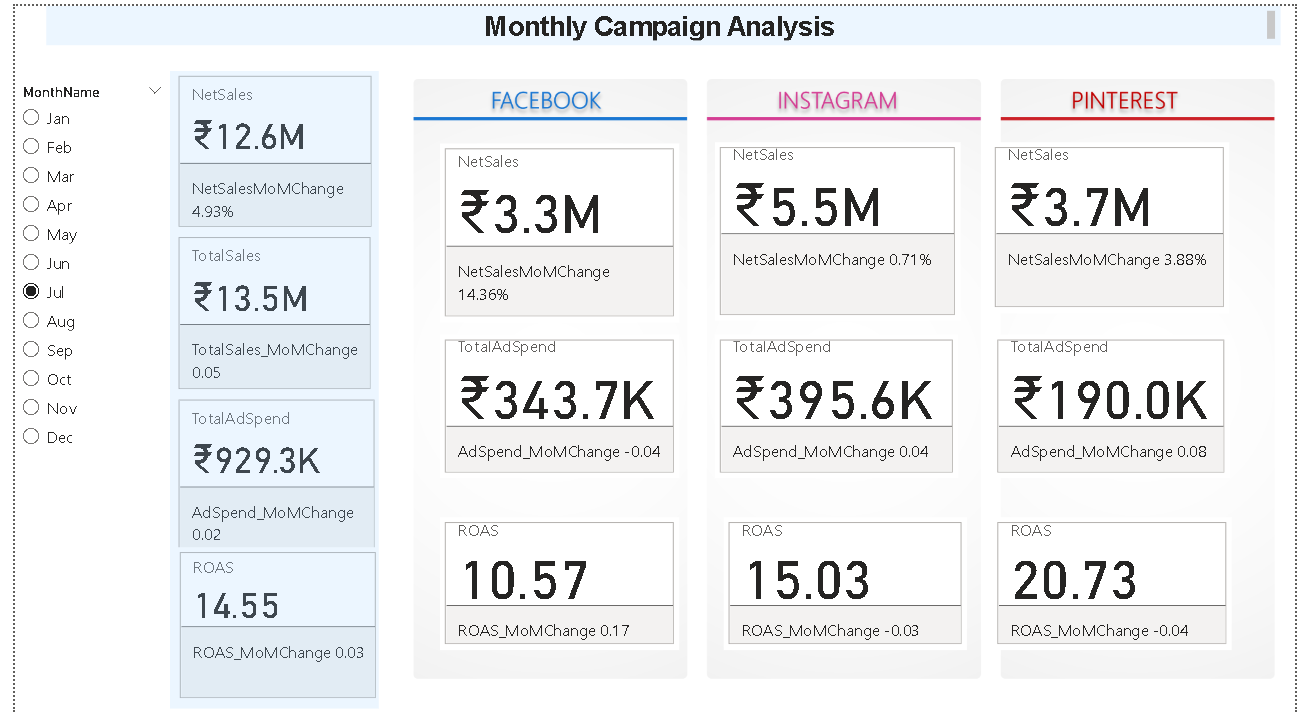

Layout of this report page (visuals, bound fields, positions):
{"tool":"powerbi","page":{"name":"Monthly Campaign Analysis","canvas":[1280,720],"ordinal":1},"visuals":[{"type":"cardVisual","fields":{"Data":["Measures (2).TotalSales"]},"box":[158.2,226.6,202.5,162],"z":0},{"type":"cardVisual","fields":{"Data":["Measures (2).TotalAdSpend"]},"box":[158.2,388.6,206.3,167.1],"z":1000},{"type":"cardVisual","fields":{"Data":["Measures (2).NetSales"]},"box":[158.7,64.9,203.4,161.6],"z":2000},{"type":"image","box":[394,39.8,871.8,662.8],"z":3000},{"type":"cardVisual","fields":{"Data":["Measures (2).TotalAdSpend"]},"box":[425.3,329.1,239.2,143],"z":4000},{"type":"cardVisual","fields":{"Data":["Measures (2).TotalAdSpend"]},"box":[700,329.1,243,143],"z":5000},{"type":"cardVisual","fields":{"Data":["Measures (2).TotalAdSpend"]},"box":[977.2,329.1,238,143],"z":6000},{"type":"cardVisual","fields":{"Data":["A_Measures.ROAS"]},"box":[159.5,541.8,206.3,157],"z":7000},{"type":"cardVisual","fields":{"Data":["Measures (2).NetSales"]},"box":[974.7,136.7,239.2,170.9],"z":8000},{"type":"cardVisual","fields":{"Data":["Measures (2).NetSales"]},"box":[700,136.7,245.6,178.5],"z":9000},{"type":"cardVisual","fields":{"Data":["Measures (2).NetSales"]},"box":[425.6,137.1,239.5,178.9],"z":10000},{"type":"slicer","fields":{"Values":["Calender.MonthName"]},"box":[0,77.2,154.4,434.2],"z":11000},{"type":"textbox","box":[154.4,64.6,208.9,638],"z":12000},{"type":"textbox","box":[31.6,0,1234.2,39.2],"z":13000},{"type":"cardVisual","fields":{"Data":["A_Measures.ROAS"]},"box":[425.3,511.4,239.2,132.9],"z":14000},{"type":"cardVisual","fields":{"Data":["A_Measures.ROAS"]},"box":[708.9,511.4,243,132.9],"z":15000},{"type":"cardVisual","fields":{"Data":["A_Measures.ROAS"]},"box":[977.2,511.4,239.2,132.9],"z":16000}]}

Visuals, with their boxes on the page's 1280x720 design canvas (x1, y1, x2, y2). These are canvas units, not pixel positions in the 1316x712 screenshot, which may show the page scaled, cropped or inside an application window:
cardVisual - Measures (2).TotalSales: crop(158, 227, 361, 389)
cardVisual - Measures (2).TotalAdSpend: crop(158, 389, 364, 556)
cardVisual - Measures (2).NetSales: crop(159, 65, 362, 226)
image: crop(394, 40, 1266, 703)
cardVisual - Measures (2).TotalAdSpend: crop(425, 329, 664, 472)
cardVisual - Measures (2).TotalAdSpend: crop(700, 329, 943, 472)
cardVisual - Measures (2).TotalAdSpend: crop(977, 329, 1215, 472)
cardVisual - A_Measures.ROAS: crop(160, 542, 366, 699)
cardVisual - Measures (2).NetSales: crop(975, 137, 1214, 308)
cardVisual - Measures (2).NetSales: crop(700, 137, 946, 315)
cardVisual - Measures (2).NetSales: crop(426, 137, 665, 316)
slicer - Calender.MonthName: crop(0, 77, 154, 511)
textbox: crop(154, 65, 363, 703)
textbox: crop(32, 0, 1266, 39)
cardVisual - A_Measures.ROAS: crop(425, 511, 664, 644)
cardVisual - A_Measures.ROAS: crop(709, 511, 952, 644)
cardVisual - A_Measures.ROAS: crop(977, 511, 1216, 644)
